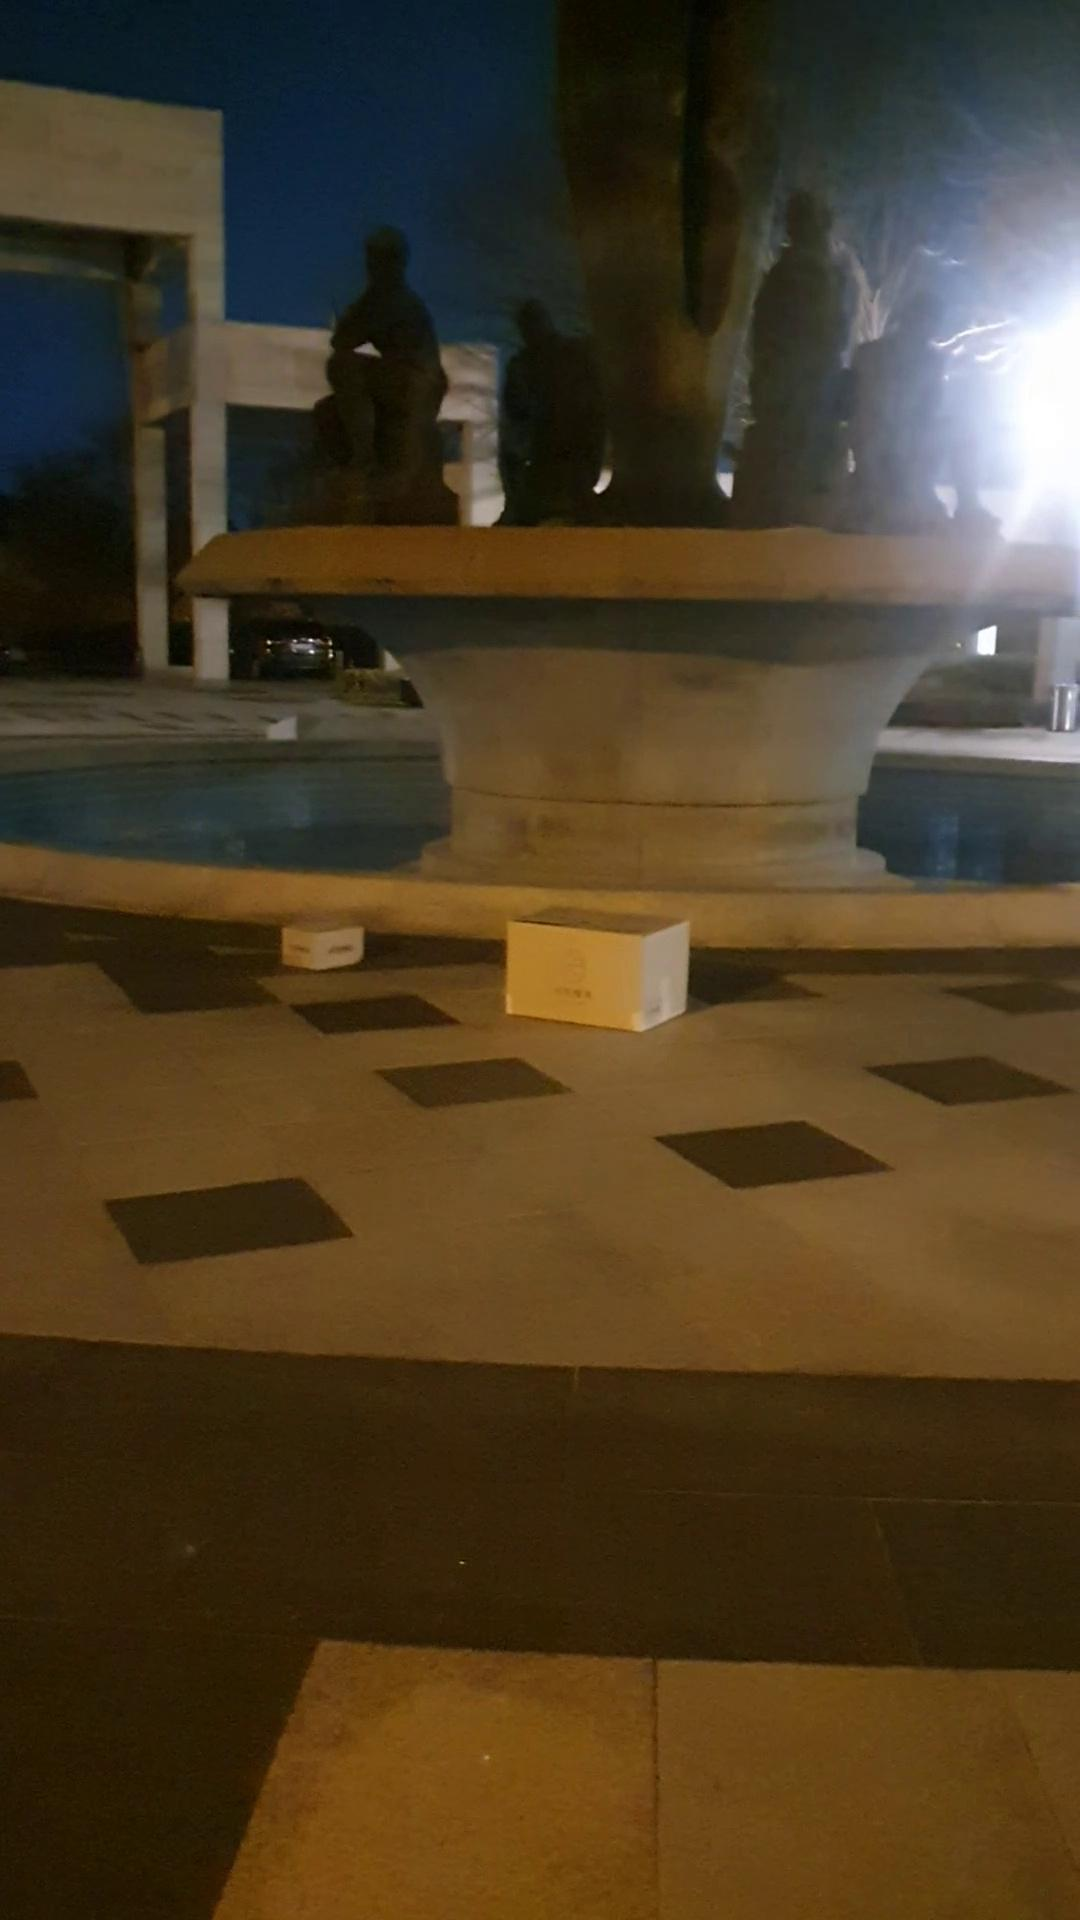Box: (488, 903, 704, 1044), (278, 898, 371, 973)
